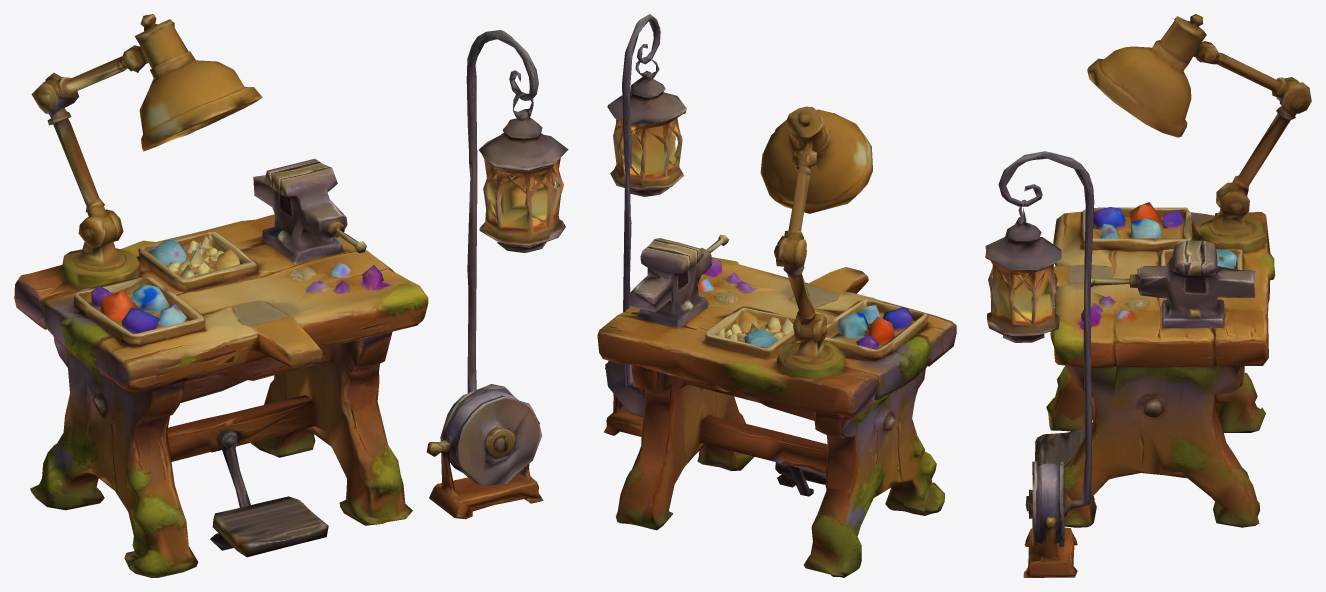
File: town_station_jeweler_bench.glb
3 views of the same model, side by side, from view 1: azimuth 30°, elevation 25°; view 2: azimuth 150°, elevation 25°; view 3: azimuth 270°, elevation 25° (orthographic). The views are drawn at different scales.
Parts seen in each view (by area): view 1: tripo_node_8603c381-eea3-443e-8192-5735426c54a2; view 2: tripo_node_8603c381-eea3-443e-8192-5735426c54a2; view 3: tripo_node_8603c381-eea3-443e-8192-5735426c54a2.
Boxes of the visible parts, bbox=[...] form: tripo_node_8603c381-eea3-443e-8192-5735426c54a2: bbox=[14, 14, 568, 577]; tripo_node_8603c381-eea3-443e-8192-5735426c54a2: bbox=[597, 14, 956, 577]; tripo_node_8603c381-eea3-443e-8192-5735426c54a2: bbox=[985, 14, 1311, 577].
Size of the model in its own units: 1.6 by 1.79 by 1.22.
Materials: 1 (1 with a texture image).
